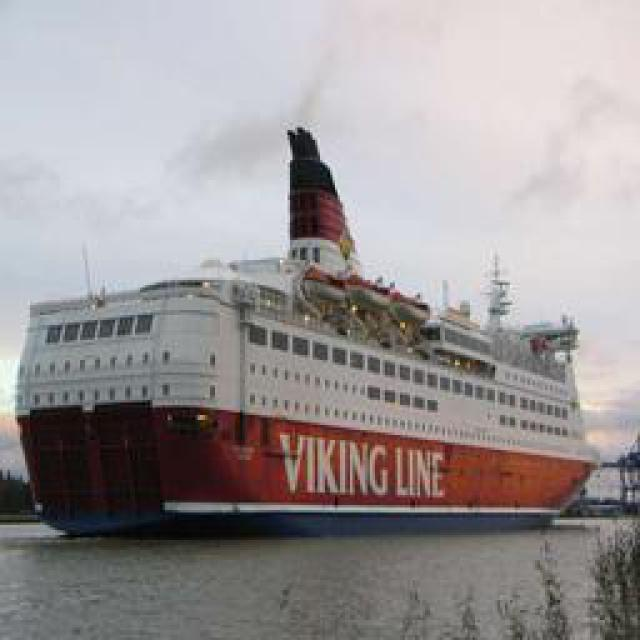Ship: (6, 244, 599, 539)
